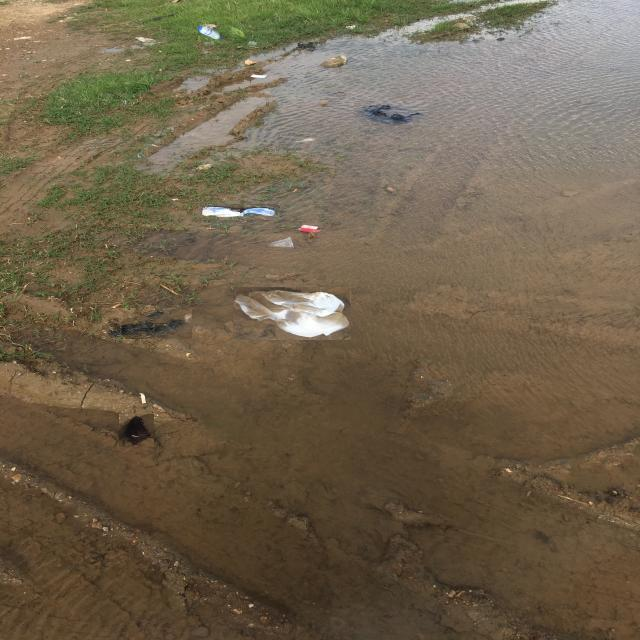Plastic bag: (233, 287, 351, 340), (102, 308, 192, 339), (354, 101, 428, 126), (119, 414, 154, 447)
Plastic bottle: (198, 24, 220, 42)
Plastic cup: (266, 237, 299, 250)
Plastic packaging: (199, 204, 280, 220), (298, 223, 321, 234)
